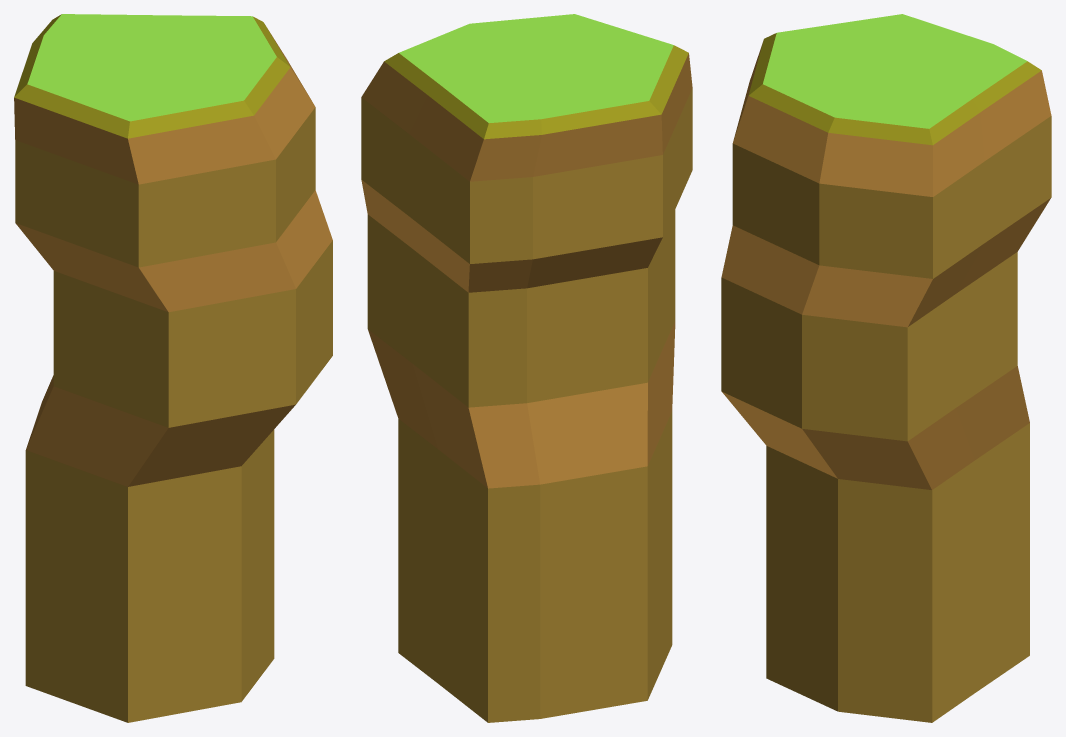
File: canyon-pillar.obj
3 views of the same model, side by side, from view 1: azimuth 30°, elevation 25°; view 2: azimuth 150°, elevation 25°; view 3: azimuth 270°, elevation 25° (orthographic).
Visible parts, largest first — view 1: canyon-pillar; view 2: canyon-pillar; view 3: canyon-pillar.
Boxes of the visible parts, box(x1,y1,x2,y2) form: canyon-pillar: box(14, 14, 332, 722); canyon-pillar: box(361, 14, 692, 722); canyon-pillar: box(721, 14, 1051, 722).
Bounding box in the file's own units: 7.42 × 14.54 × 7.31.
